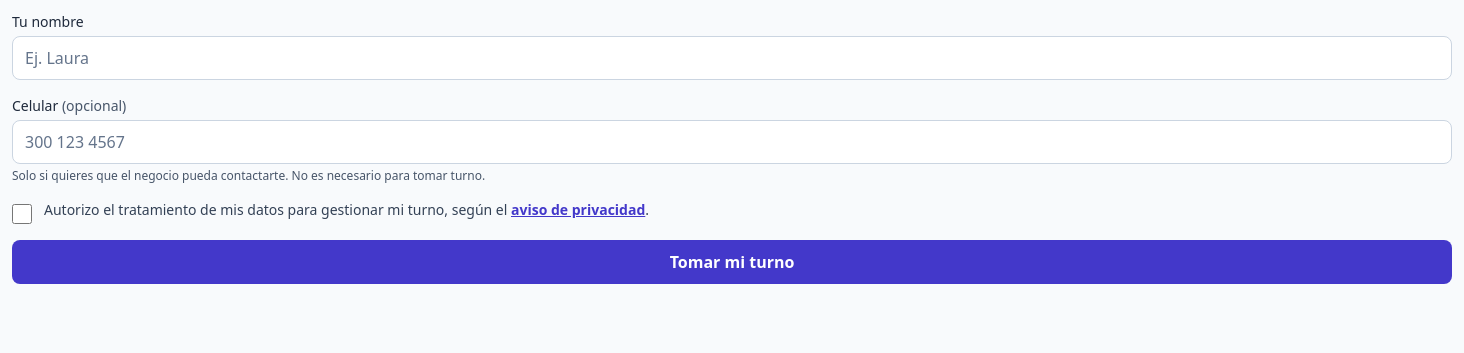
Test case: JoinForm · ingreso del cliente (RF03) › muestra el error amigable cuando se alcanzó el límite diario
Step 1. Type "Laura" into the field labelled "Tu nombre" → (732, 58), box [12,36,1452,80]
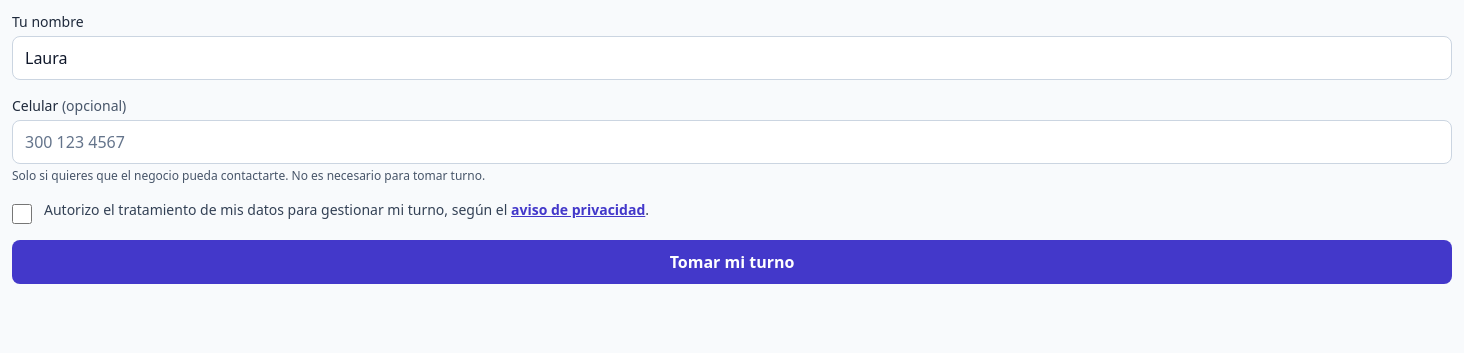
Step 2. Click the checkbox labelled "Autorizo el tratamiento" → (22, 214), box [12,204,32,224]
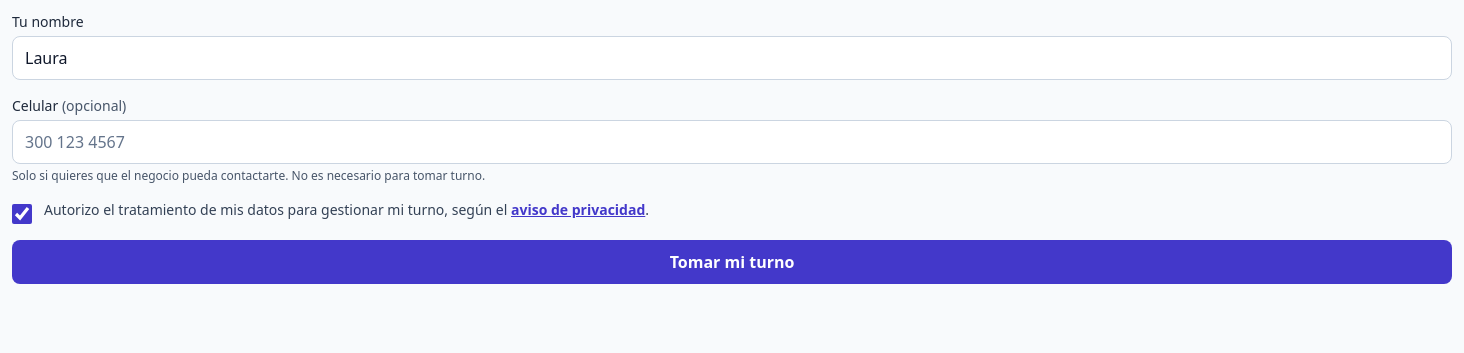
Step 3. Click the button "Tomar mi turno" → (732, 262), box [12,240,1452,284]
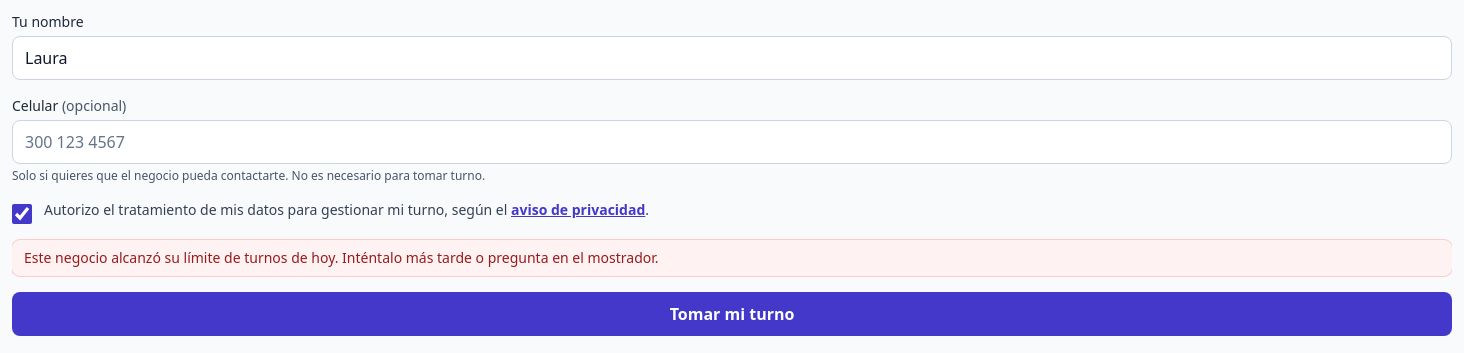
Expected: the message shows "límite de turnos de hoy", [24,248,659,267]
